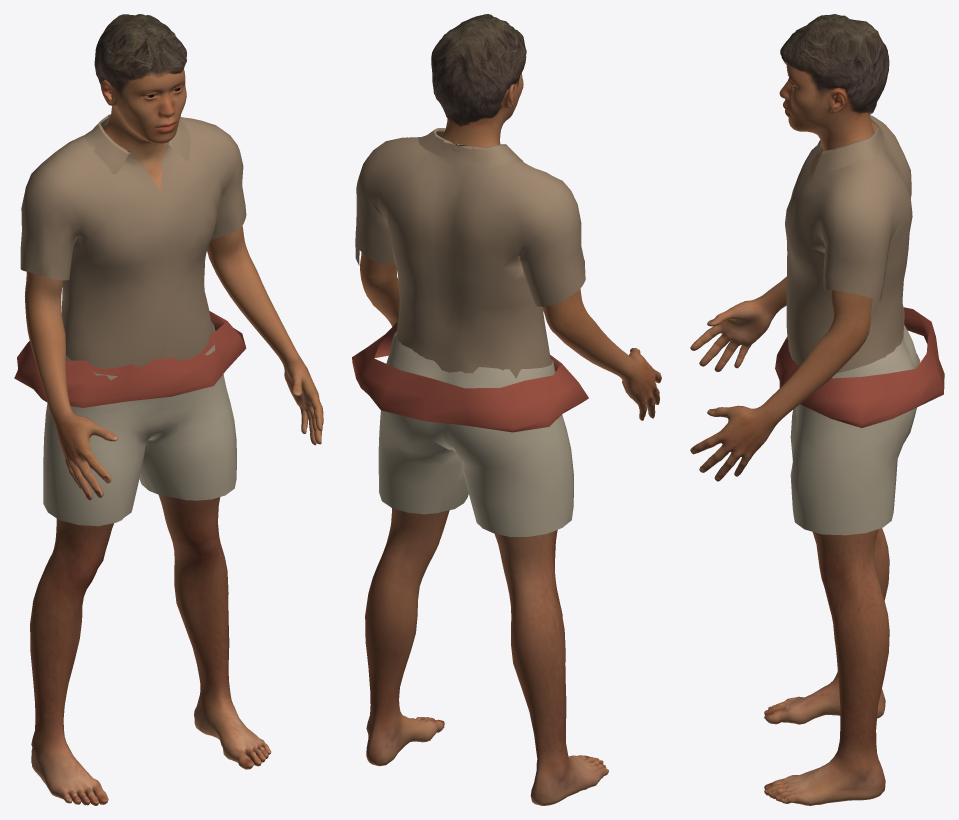
The model's file is dock_porter.glb.
The picture shows the model from 3 angles, left to right: view 1: azimuth 30°, elevation 25°; view 2: azimuth 150°, elevation 25°; view 3: azimuth 270°, elevation 25°; orthographic projection.
Visible parts, largest first — view 1: dock_porter_MakeHuman_body_static_preview, Fitted cotton upper base_static_preview, Porter fitted short work trousers_static_preview, Wide madder waist sash_static_preview, Farmer_hair_static_preview; view 2: Fitted cotton upper base_static_preview, dock_porter_MakeHuman_body_static_preview, Porter fitted short work trousers_static_preview, Wide madder waist sash_static_preview, Farmer_hair_static_preview; view 3: dock_porter_MakeHuman_body_static_preview, Fitted cotton upper base_static_preview, Porter fitted short work trousers_static_preview, Wide madder waist sash_static_preview, Farmer_hair_static_preview.
Part boxes in pixels (left/top/right/bottom): dock_porter_MakeHuman_body_static_preview: left=25, top=69, right=323, bottom=805; Fitted cotton upper base_static_preview: left=20, top=114, right=246, bottom=369; Porter fitted short work trousers_static_preview: left=43, top=321, right=236, bottom=526; Wide madder waist sash_static_preview: left=14, top=311, right=246, bottom=407; Farmer_hair_static_preview: left=94, top=14, right=186, bottom=97; Fitted cotton upper base_static_preview: left=355, top=128, right=585, bottom=378; dock_porter_MakeHuman_body_static_preview: left=360, top=72, right=661, bottom=805; Porter fitted short work trousers_static_preview: left=378, top=332, right=573, bottom=536; Wide madder waist sash_static_preview: left=352, top=322, right=588, bottom=432; Farmer_hair_static_preview: left=431, top=14, right=526, bottom=126; dock_porter_MakeHuman_body_static_preview: left=690, top=63, right=889, bottom=805; Fitted cotton upper base_static_preview: left=785, top=115, right=920, bottom=373; Porter fitted short work trousers_static_preview: left=790, top=325, right=917, bottom=535; Wide madder waist sash_static_preview: left=775, top=307, right=944, bottom=427; Farmer_hair_static_preview: left=780, top=14, right=889, bottom=114.
Bounding box in the file's own units: 0.5392 × 1.55 × 0.4852.
Materials: 8 (4 with a texture image).
